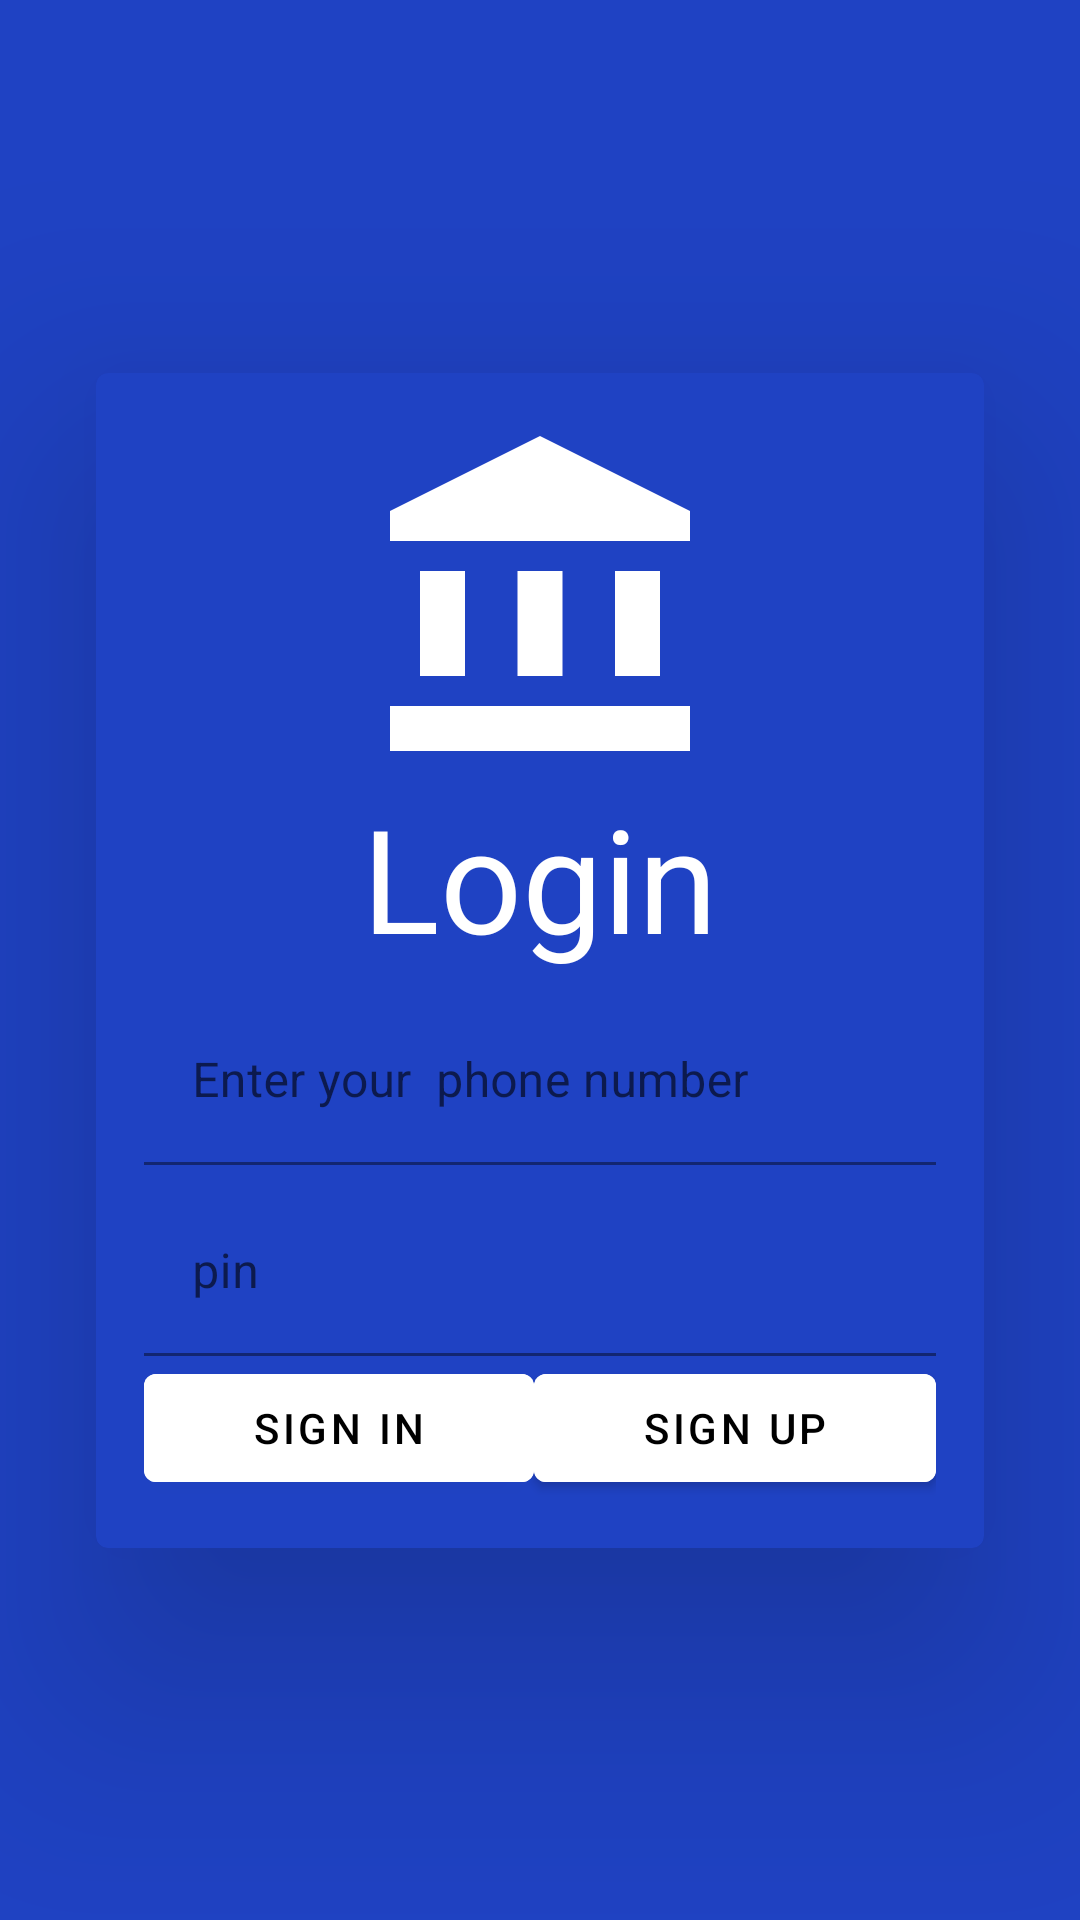

Screen size 1080px×1920px. Icon name, then its box in pixels as [x1=x1, y1=y1, x2=x2, y2=y2]:
account balance: [x1=390, y1=436, x2=690, y2=751]
